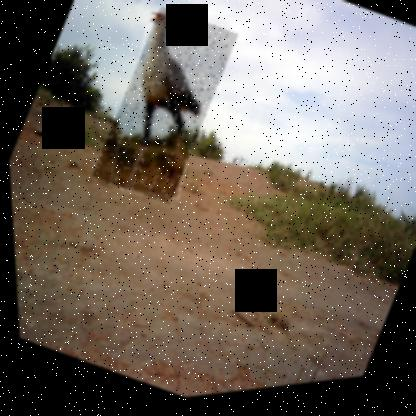Sagittarius serpentarius: (81, 3, 245, 216)
